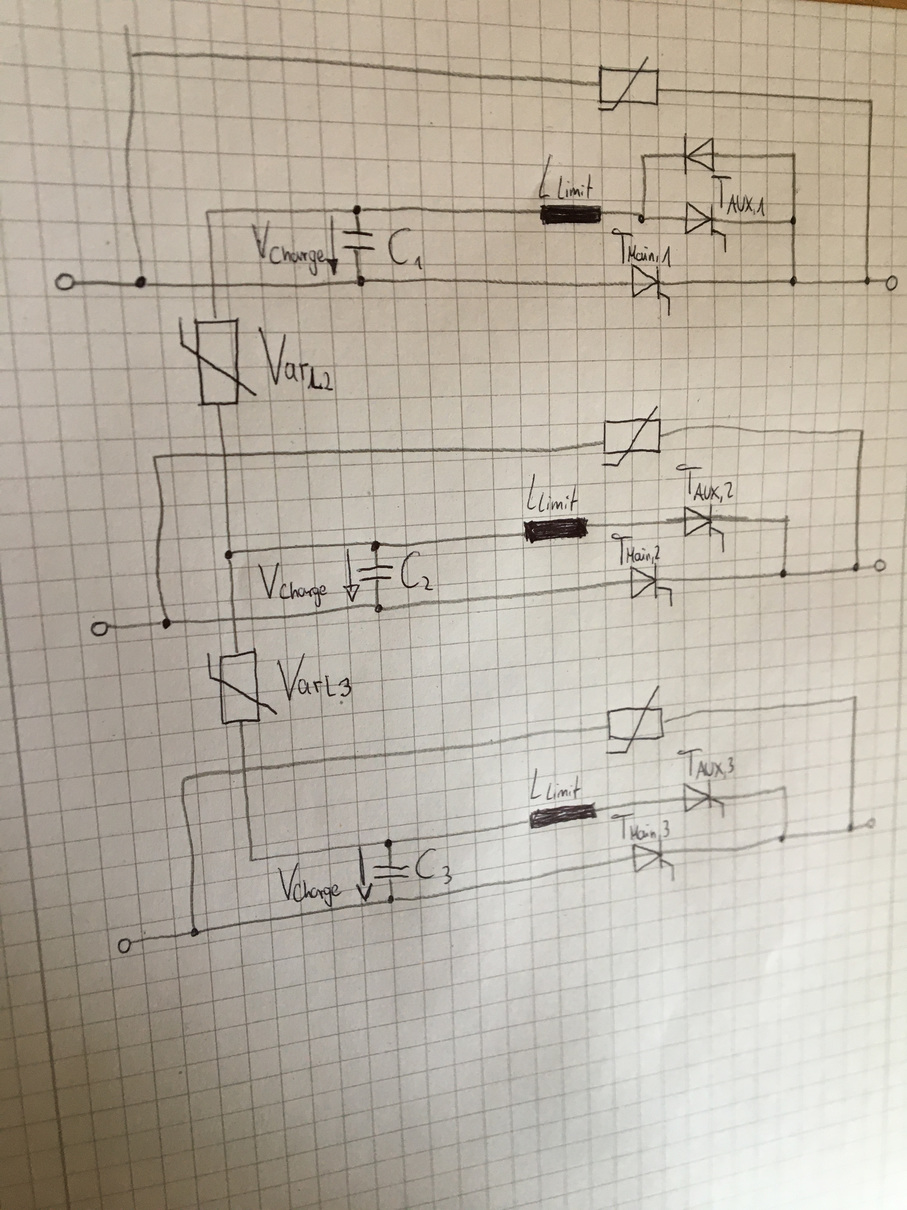capacitor.unpolarized: (339, 228, 377, 253), (355, 563, 396, 583), (371, 863, 411, 881)
crossover: (238, 763, 251, 779), (228, 612, 242, 626), (218, 449, 231, 462), (206, 279, 220, 290)
diode: (682, 131, 717, 176)
inductor: (527, 800, 599, 832), (521, 515, 591, 545), (538, 202, 604, 227)
junction: (133, 273, 149, 291), (120, 48, 140, 62), (158, 616, 176, 631), (368, 537, 383, 554), (350, 203, 366, 217), (179, 774, 194, 788), (634, 210, 649, 224), (354, 273, 368, 288), (222, 547, 236, 561), (371, 600, 384, 615), (385, 893, 399, 906), (776, 832, 790, 845), (861, 274, 875, 287), (850, 561, 863, 574), (382, 838, 397, 849), (788, 273, 799, 288), (189, 926, 201, 939), (845, 821, 857, 834), (149, 451, 161, 463), (778, 567, 789, 579), (781, 513, 792, 525), (788, 214, 799, 226), (638, 150, 649, 162), (788, 150, 800, 161), (856, 425, 867, 436), (202, 207, 213, 218), (778, 784, 790, 794), (850, 692, 860, 703), (865, 96, 876, 106), (247, 854, 256, 864)
terminal: (53, 270, 78, 292), (89, 619, 112, 639), (116, 936, 133, 955), (883, 274, 900, 292), (872, 558, 888, 573), (864, 816, 878, 830)
text: (256, 324, 335, 394), (249, 217, 327, 277), (274, 650, 354, 703), (255, 561, 329, 609), (275, 860, 342, 907), (609, 226, 674, 269), (536, 153, 595, 200), (710, 173, 768, 218), (675, 462, 735, 504), (524, 471, 582, 513), (676, 746, 737, 780), (384, 225, 426, 273), (610, 810, 672, 842), (528, 766, 582, 801), (610, 531, 664, 565), (399, 548, 436, 593), (413, 846, 454, 886)
thyristor: (628, 562, 676, 608), (683, 200, 728, 247), (629, 262, 673, 309), (682, 502, 727, 547), (630, 839, 677, 882), (680, 778, 726, 820)
varistor: (175, 314, 259, 409), (205, 646, 279, 726), (604, 684, 666, 757), (600, 404, 663, 468), (597, 54, 661, 114)
